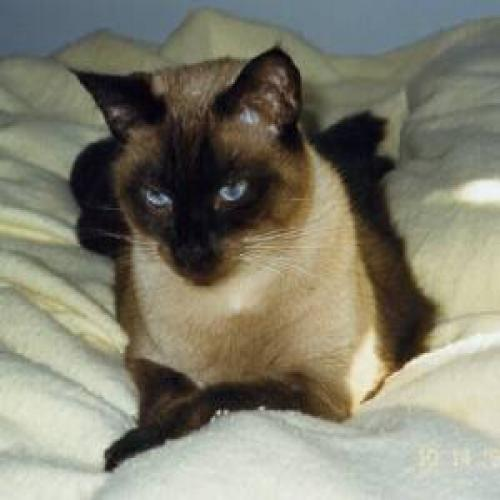siamese: (64, 38, 332, 305)
